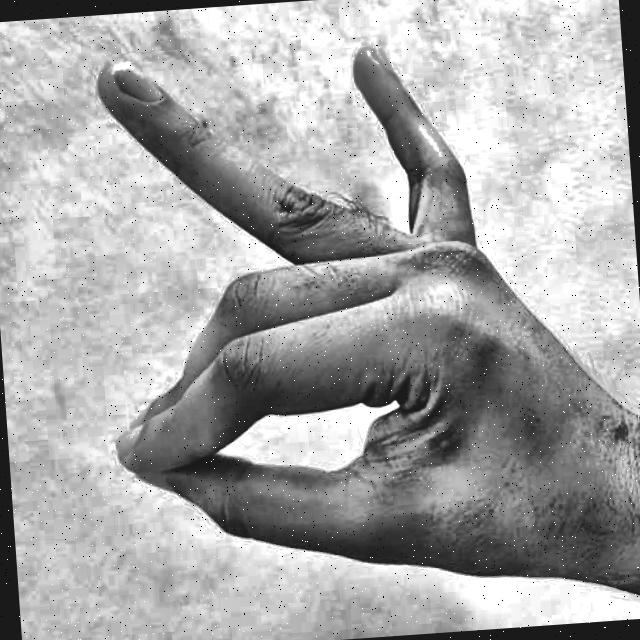Na: (47, 5, 586, 631)
